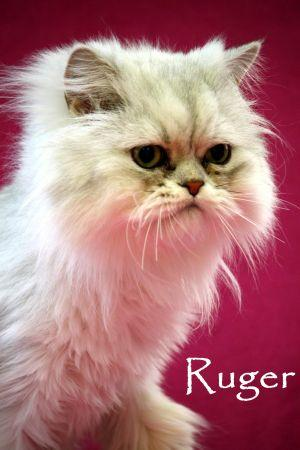persian: (26, 23, 287, 289)
